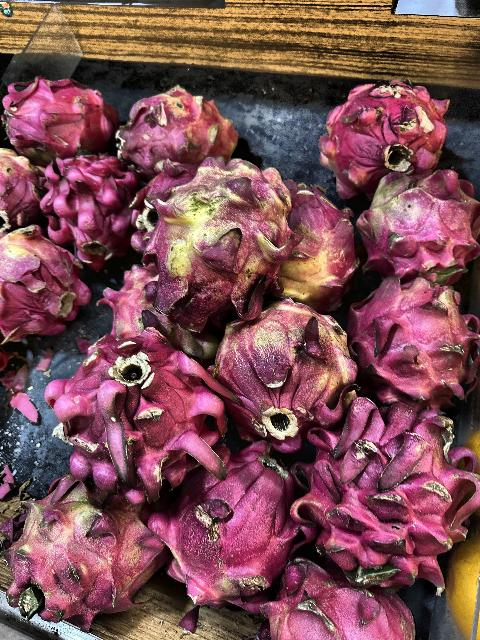buah-naga-belum-matang: (149, 154, 281, 318), (9, 474, 151, 614), (221, 294, 351, 441), (264, 175, 342, 298), (0, 228, 92, 332), (366, 184, 480, 266), (0, 150, 48, 226)
buah-naga-matang: (312, 391, 474, 571), (56, 338, 226, 489), (163, 454, 292, 596), (354, 276, 480, 400), (268, 556, 424, 640), (318, 78, 448, 175), (109, 90, 242, 167), (40, 156, 136, 258), (0, 74, 112, 144)
